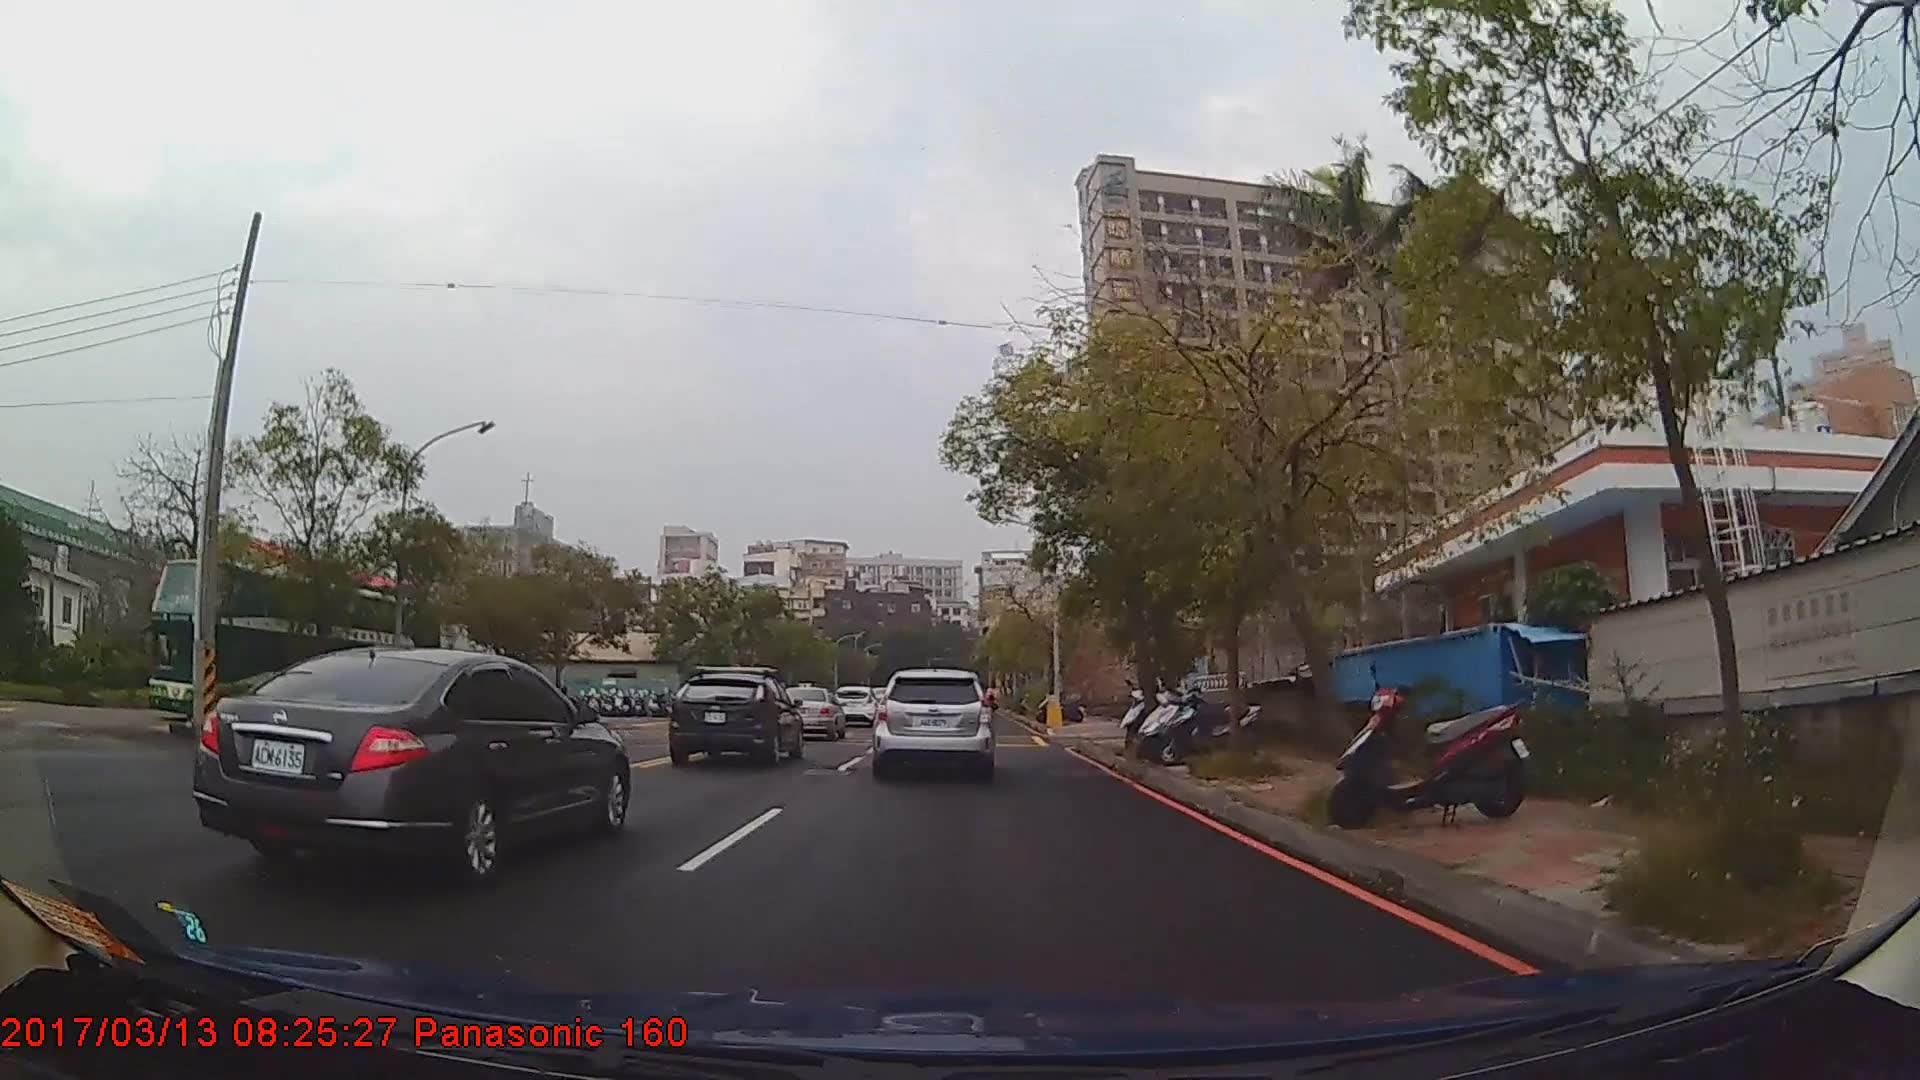vehicle: (191, 644, 632, 880), (142, 553, 447, 744), (665, 671, 804, 771), (874, 666, 992, 777), (777, 684, 843, 742), (832, 682, 880, 725)
